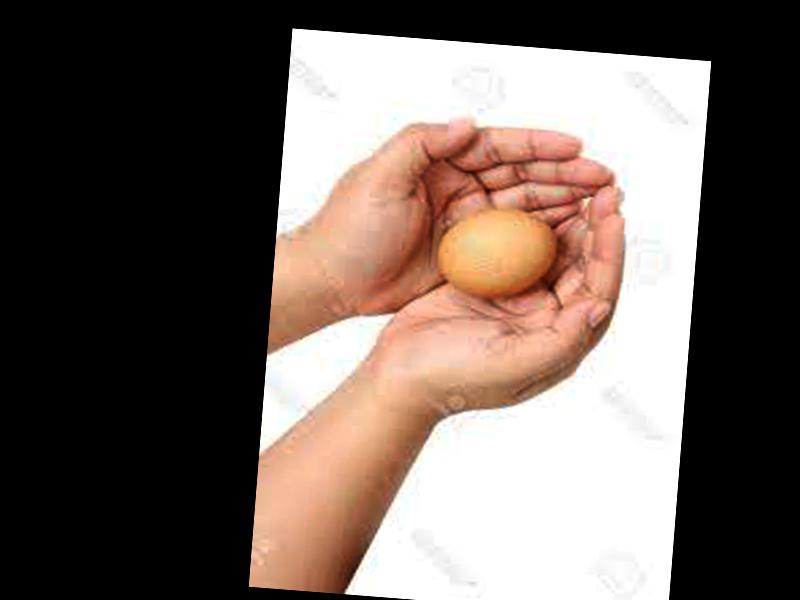Eggs: (437, 206, 556, 302)
